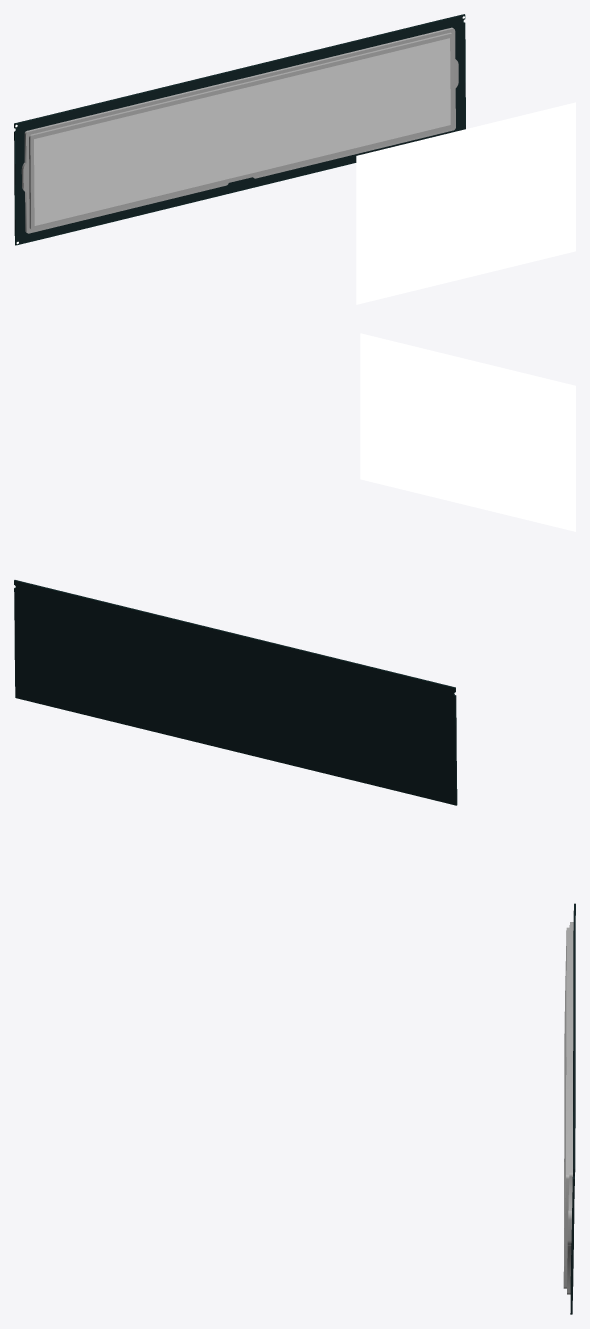
File: camAndAudioVizContainer3.glb
3 renders of one model, top to bottom at view 1: azimuth 30°, elevation 25°; view 2: azimuth 150°, elevation 25°; view 3: azimuth 270°, elevation 25°, orthographic. The views are drawn at different scales.
Parts seen in each view (by area): view 1: Cube.058, Plane.061, General.002; view 2: General.002, Plane.061; view 3: Cube.058, General.002.
Boxes of the visible parts, box(x1,y1,x2,y2) form: Cube.058: box(21, 27, 458, 233); Plane.061: box(356, 102, 575, 304); General.002: box(14, 14, 465, 245); General.002: box(14, 580, 457, 805); Plane.061: box(360, 333, 575, 531); Cube.058: box(563, 922, 573, 1294); General.002: box(570, 903, 575, 1314).
Size of the model in its own units: 2.95 by 1.45 by 2.64.
